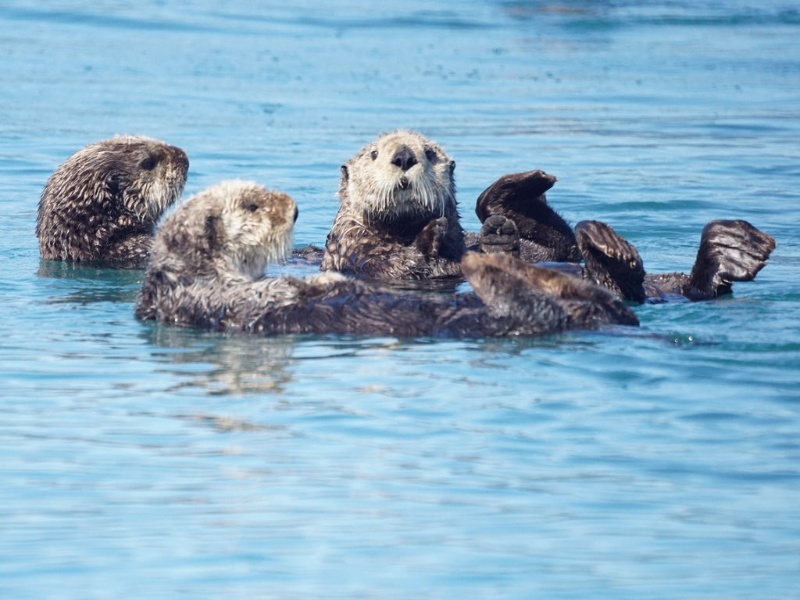minkish: (133, 182, 632, 349), (19, 130, 189, 277), (325, 132, 465, 283)
